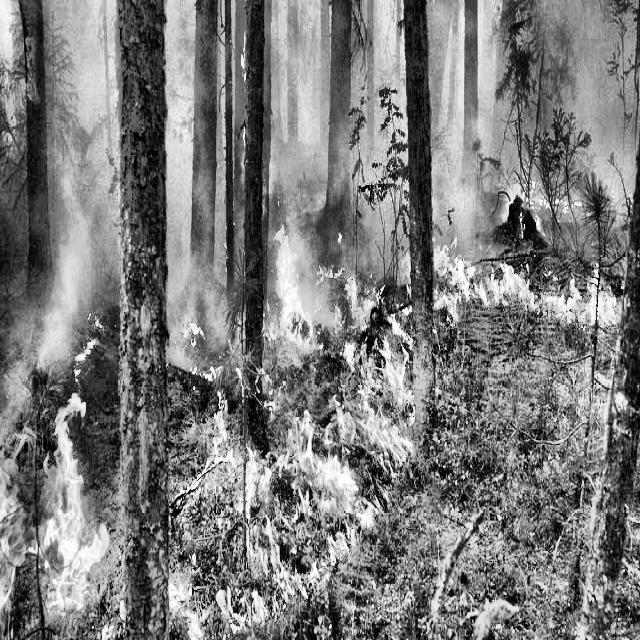fire: (3, 238, 460, 638), (273, 123, 619, 486)
